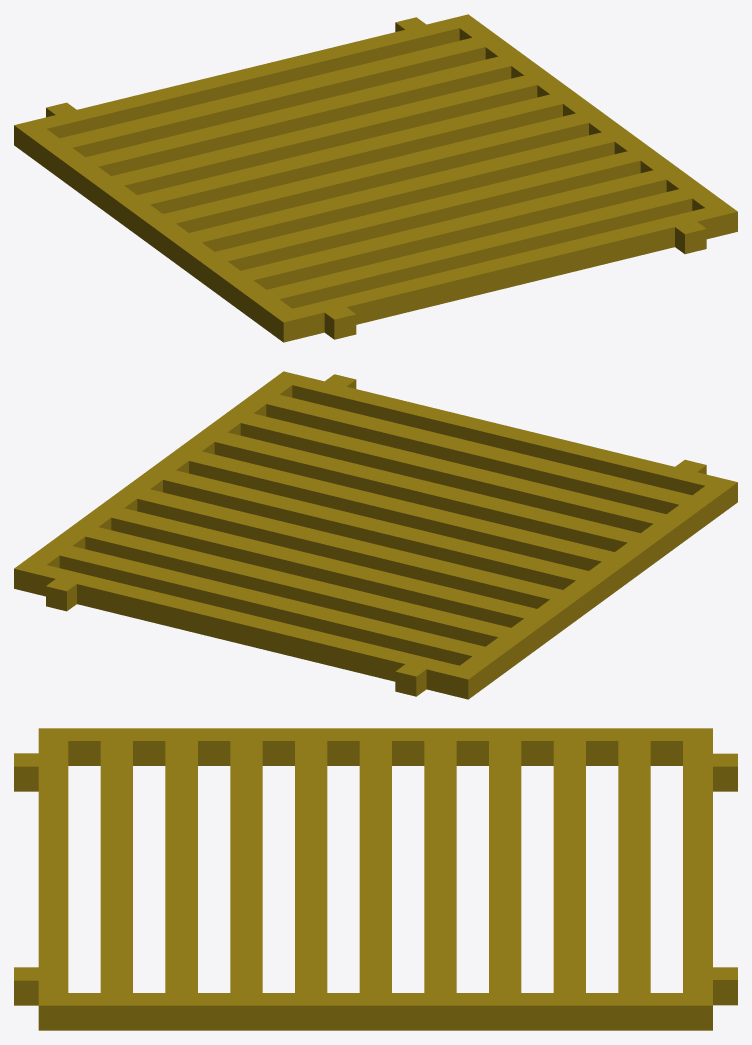
File: krata.fbx
3 views of the same model, one above another, from view 1: azimuth 30°, elevation 25°; view 2: azimuth 150°, elevation 25°; view 3: azimuth 270°, elevation 25° (orthographic). The views are drawn at different scales.
Visible parts, largest first — view 1: OvenTray; view 2: OvenTray; view 3: OvenTray.
Part boxes in pixels (x1=…): OvenTray: x1=14, y1=14, x2=737, y2=342; OvenTray: x1=14, y1=371, x2=737, y2=699; OvenTray: x1=14, y1=728, x2=737, y2=1030.
Bounding box in the file's own units: 36.09 × 1.52 × 39.82.
